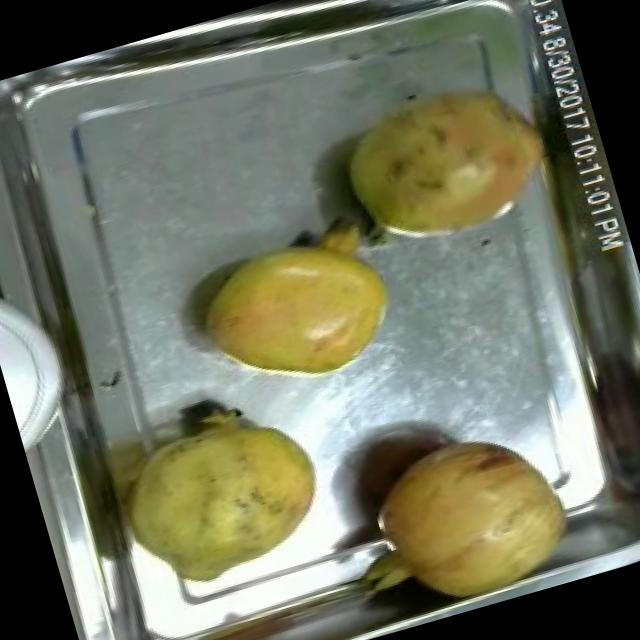fruit: (336, 400, 602, 630), (93, 376, 350, 608), (320, 50, 576, 274), (172, 205, 422, 413), (0, 180, 22, 335)
